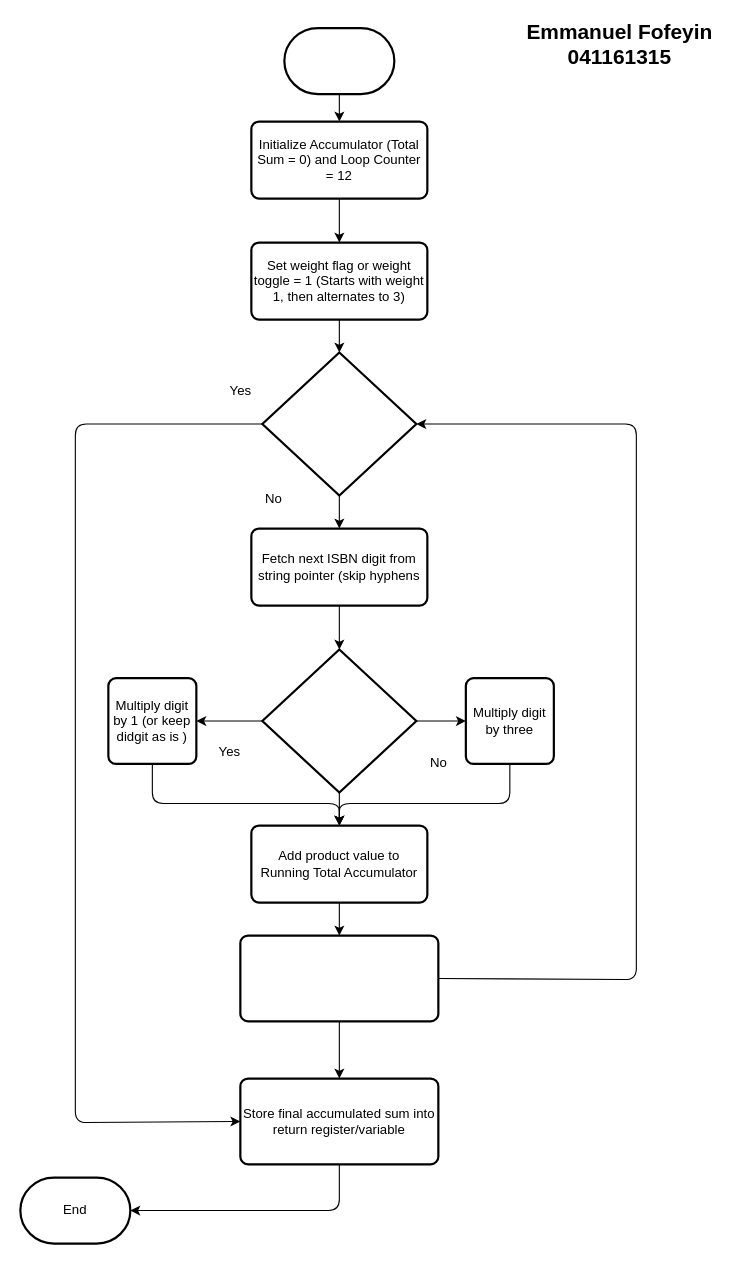
This 743x1263 diagram has some shape labels left out. The centre of each missing label's shape, as x and y in pixels:
"Is current weight == 1?" belongs at [339,720].
"Is Loop Counter == 0?" belongs at [339,423].
"Start" belongs at [339,60].
"Toggle weight (1 becomes 3, or 3 becomes 1) & Decrement Loop Counter by 1" belongs at [339,978].
